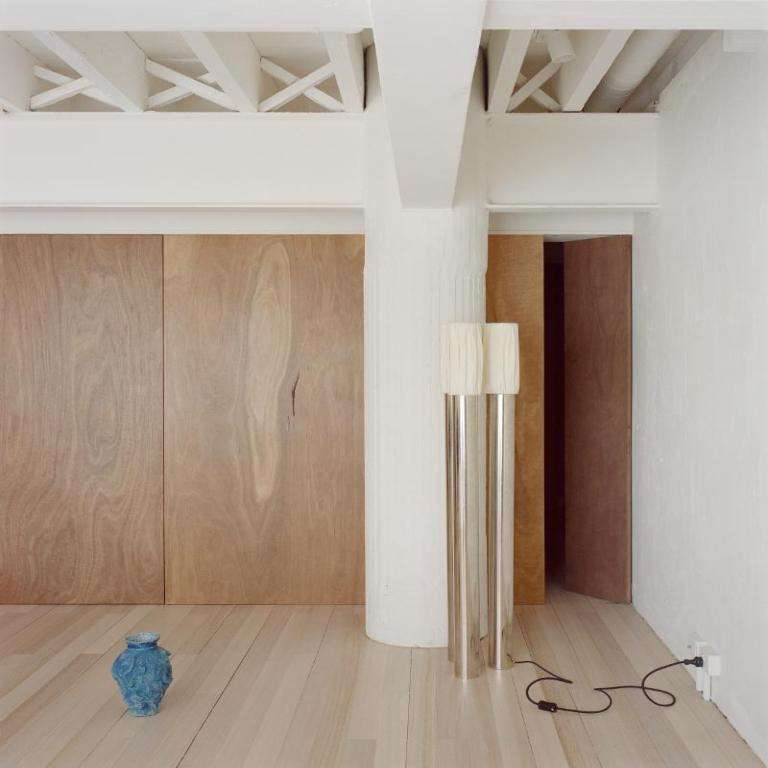white-walls: (515, 80, 752, 653)
